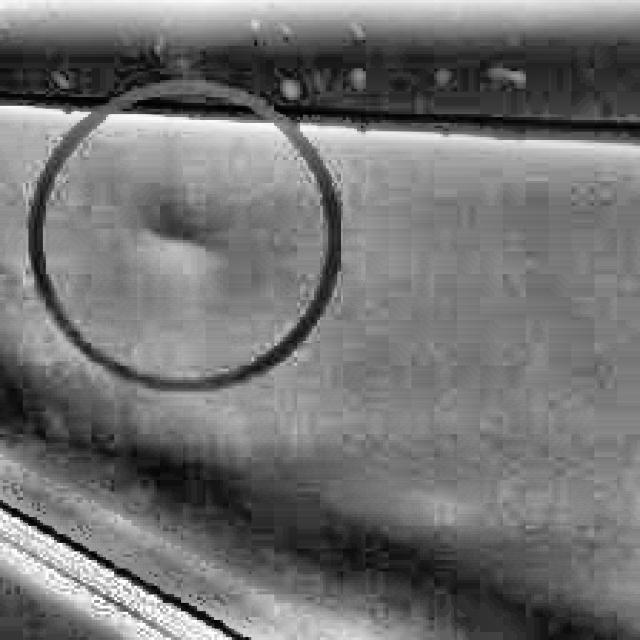door_dent: (123, 192, 218, 274)
